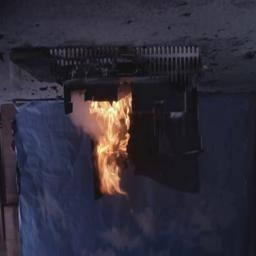fire: (81, 91, 137, 205)
